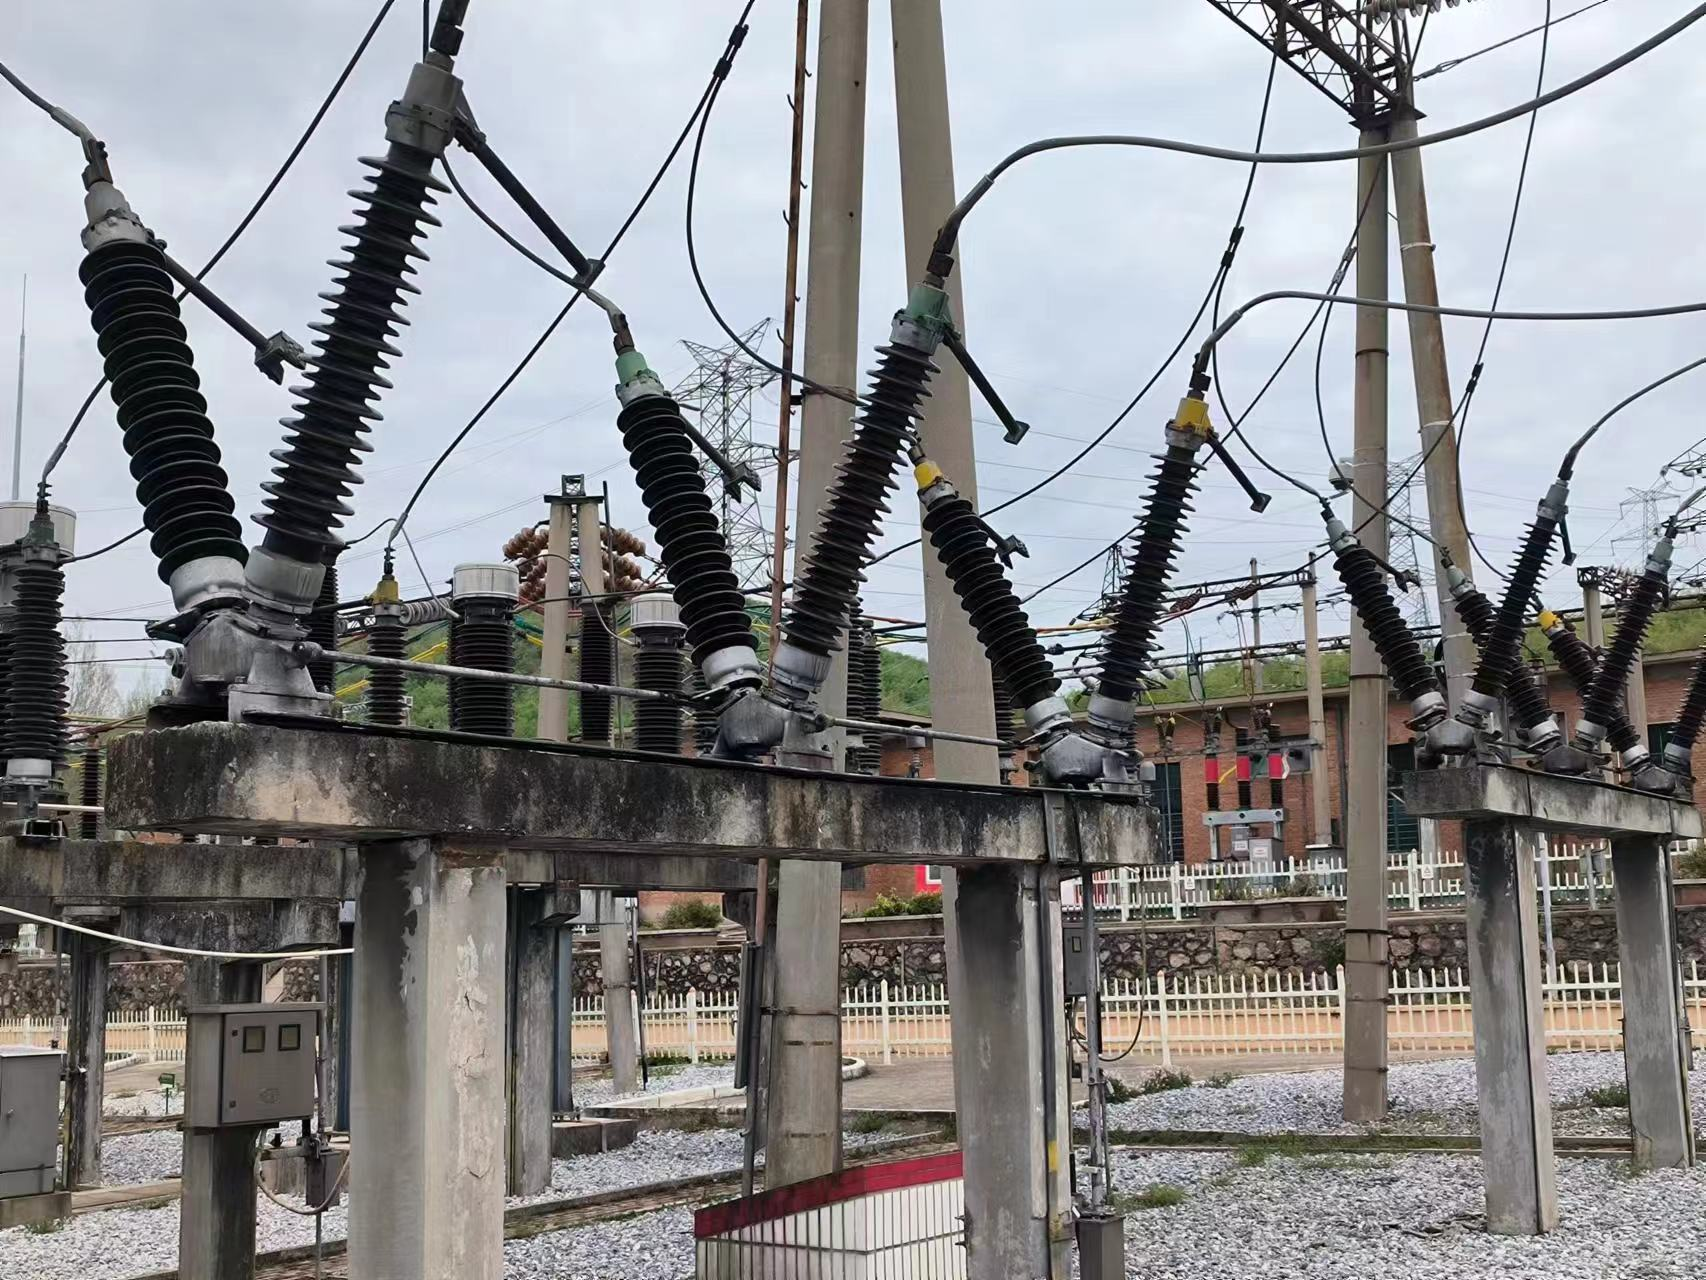Isolating switch: (56, 48, 596, 734), (597, 280, 1028, 760), (899, 358, 1280, 787), (1313, 467, 1600, 753)
